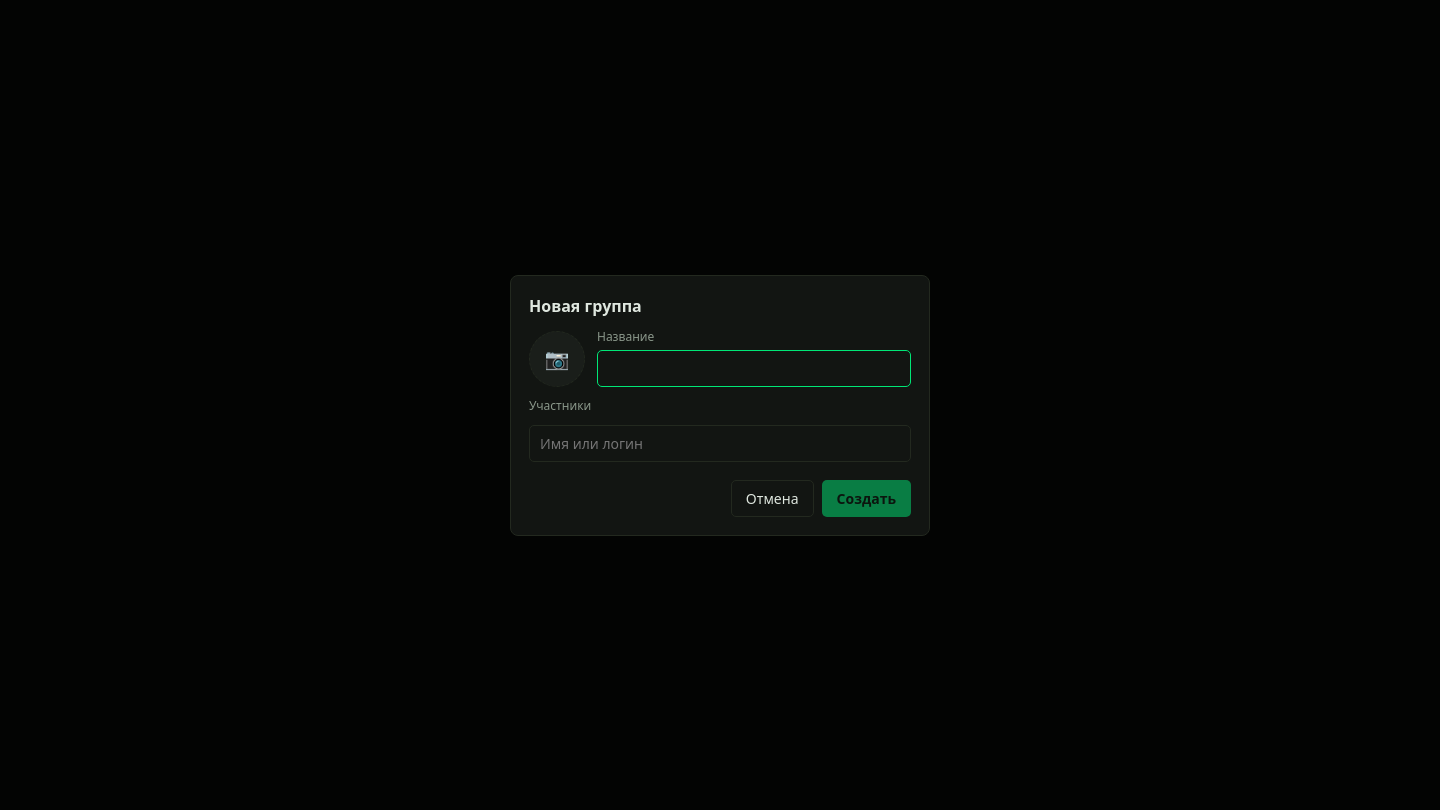
a failed create keeps the dialog open with the reason
This screenshot has width=1440, height=810.
Type "Team" into the field labelled "Название". click: (754, 368)
box: top-left (597, 350), bottom-right (911, 386)
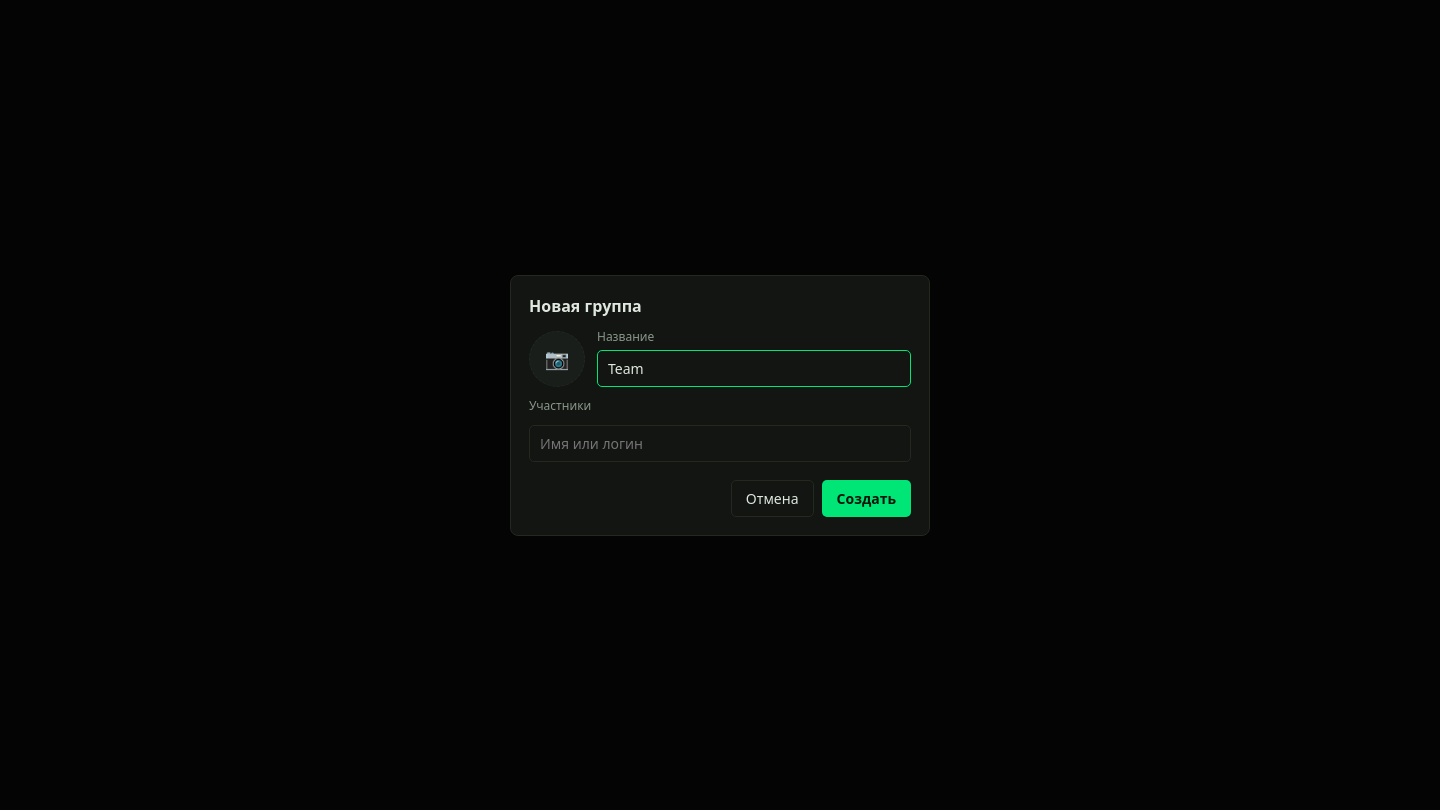
Submit the dialog, box top-left (510, 274), bottom-right (930, 536)
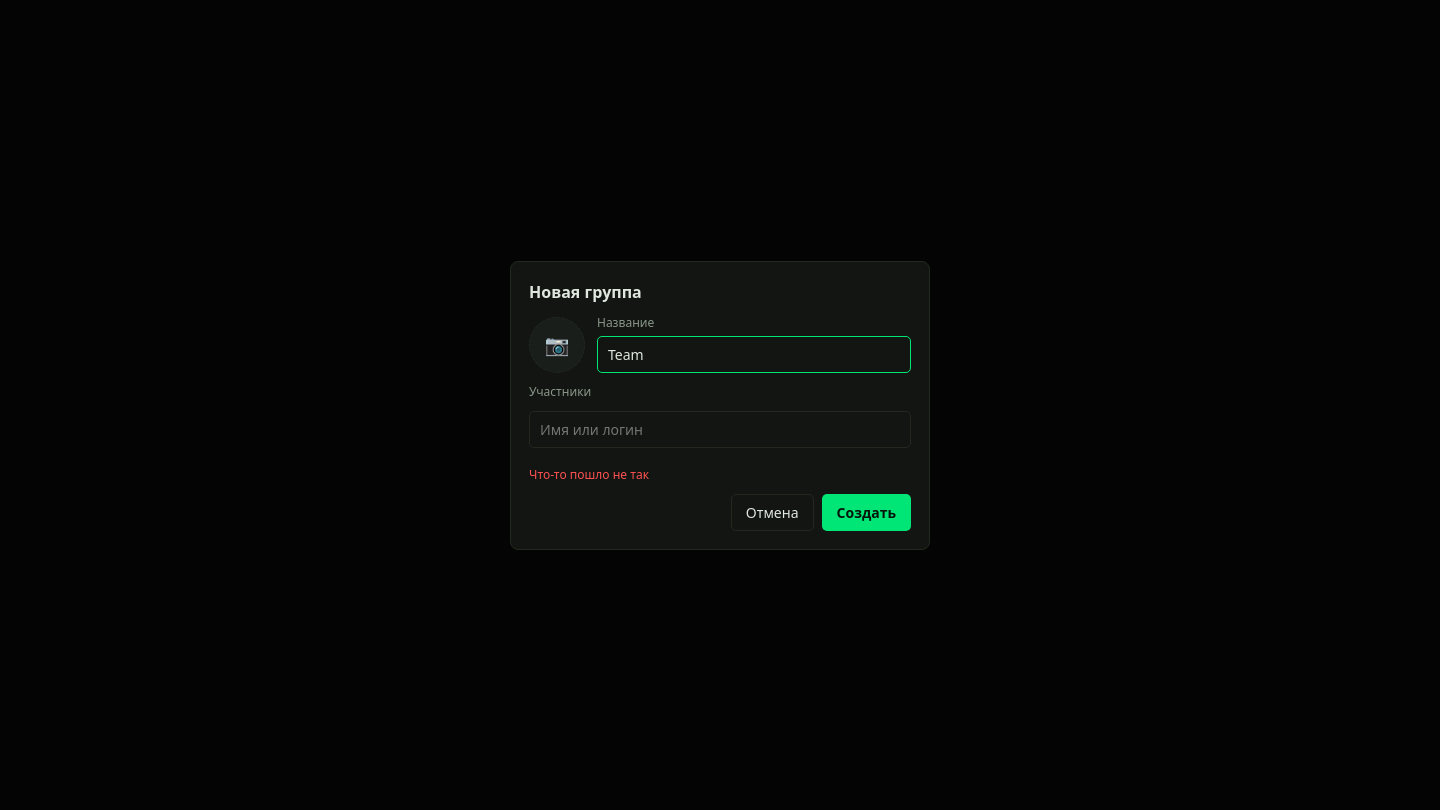
Result: the text "Что-то пошло не так" is shown at top-left (529, 466), bottom-right (649, 482)
